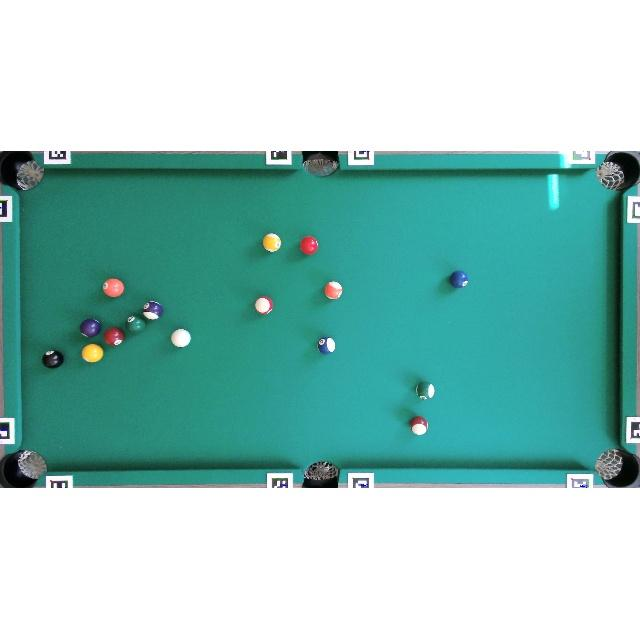cue ball: (170, 328, 192, 348)
other: (81, 342, 105, 363), (142, 300, 164, 321), (124, 314, 146, 334), (103, 327, 125, 347), (80, 318, 102, 338), (103, 278, 125, 298), (42, 349, 64, 369), (253, 295, 274, 315), (415, 380, 436, 400), (299, 235, 319, 255), (263, 232, 282, 252), (324, 280, 343, 300), (410, 416, 429, 436), (317, 336, 336, 355), (449, 270, 469, 288)
